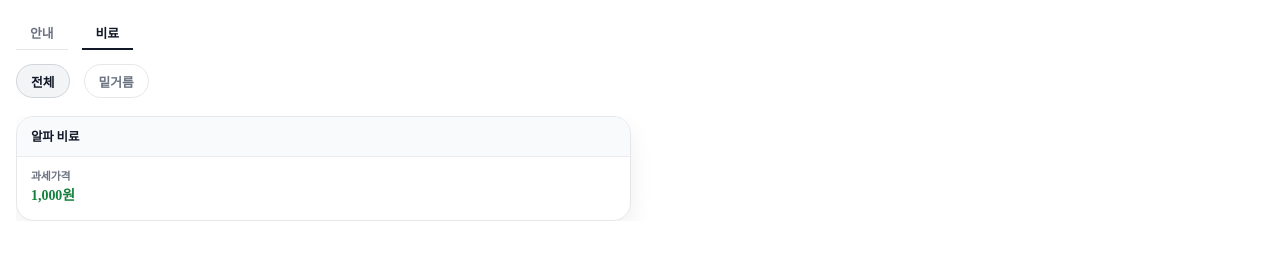
Test case: category description › shows products after the shopper selects a product-bearing chip
Click the button "비료".
click(107, 33)  # box [82,16,133,50]
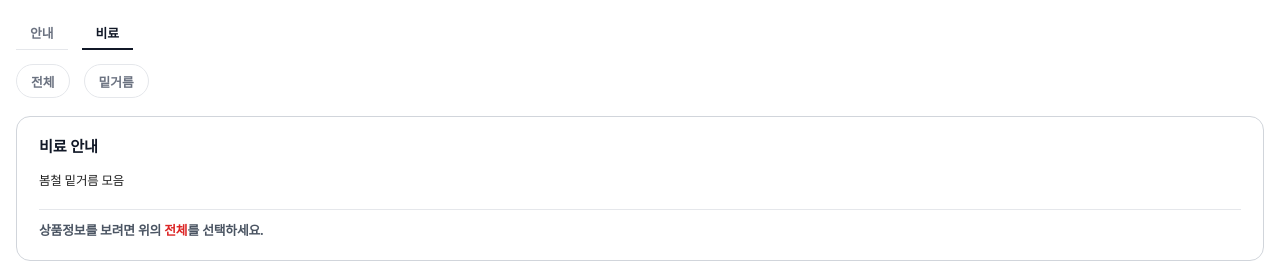
Click the button "전체".
click(43, 81)  # box [16,64,70,98]
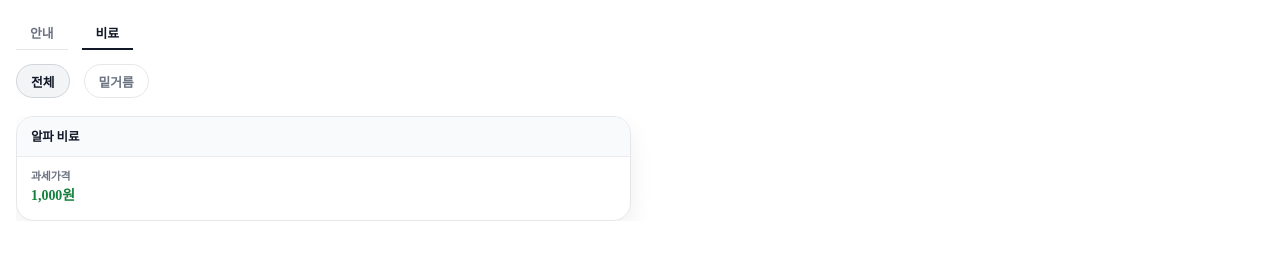
Check: the heading "비료 안내" is gone
Check: the text "알파 비료" is shown, box [31,130,79,144]
